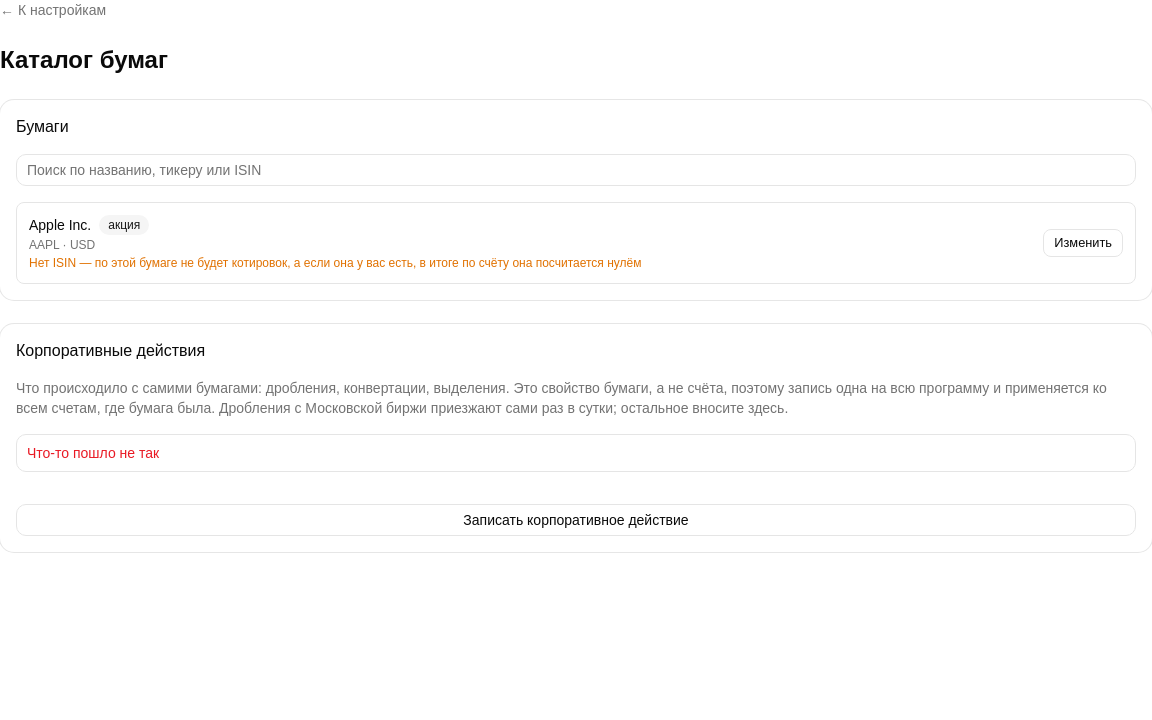
Test: InstrumentsPage › cannot save when nothing was changed
Click the button with test id "instrument-edit-AAPL" at [1083, 243], box x1=1043 y1=229 x2=1123 y2=257
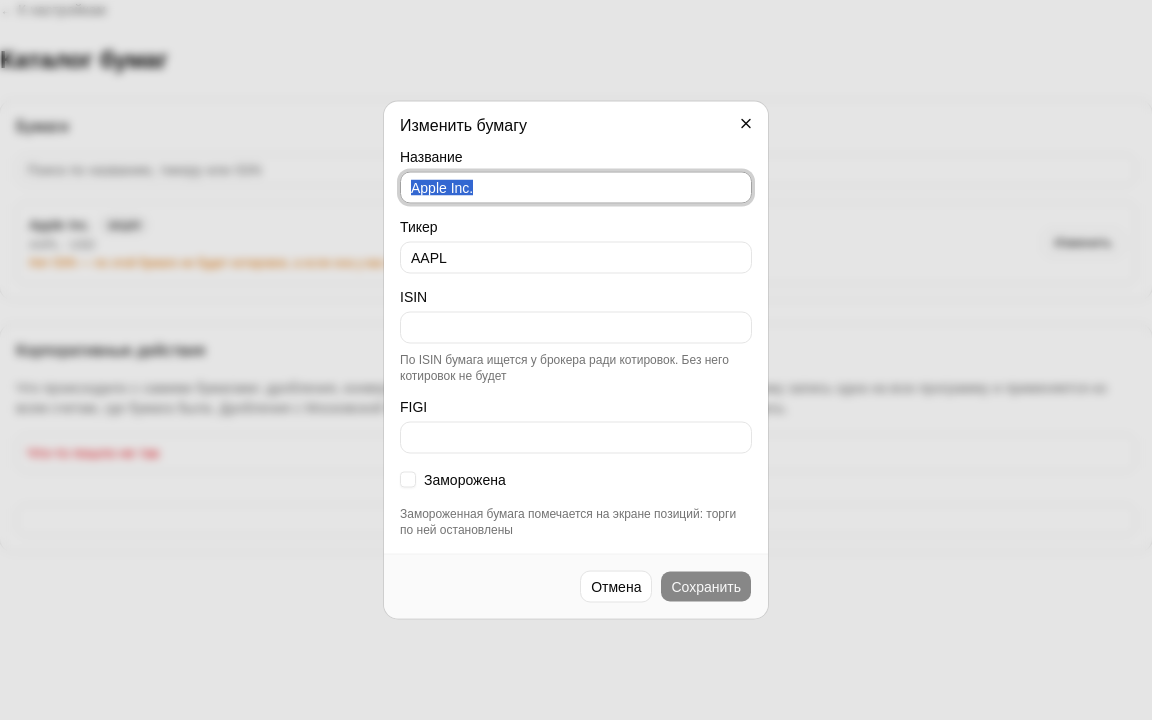
Expected: the button with test id "instrument-save" is disabled, x1=660 y1=570 x2=752 y2=602
